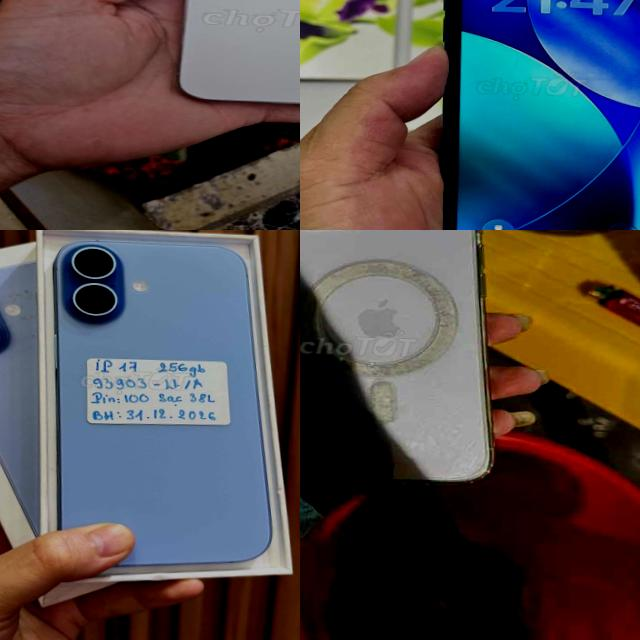gen_11: (433, 0, 640, 230)
gen_14: (165, 0, 300, 116)
gen_17: (44, 230, 291, 590), (300, 230, 514, 506)
